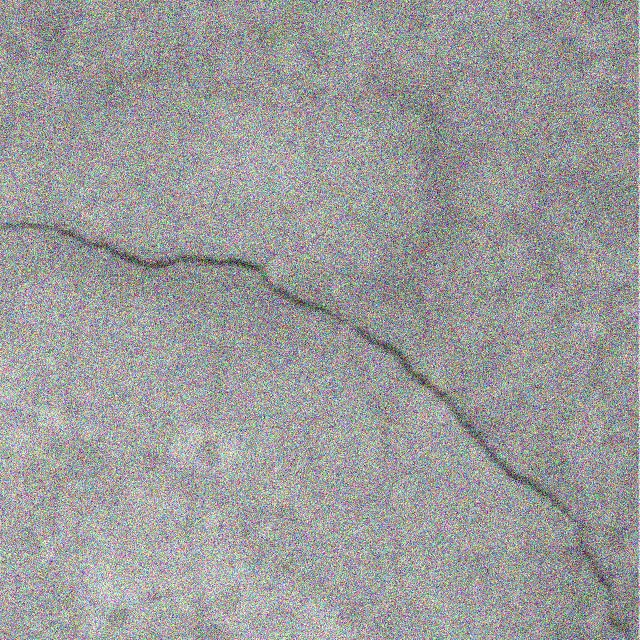SurfaceCrack: (0, 170, 638, 638)
